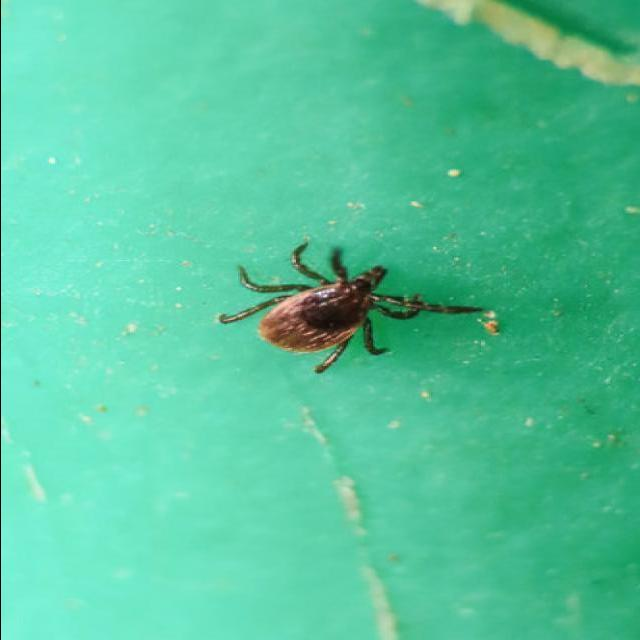Ixodes Ricinus-F: (216, 236, 501, 374)
